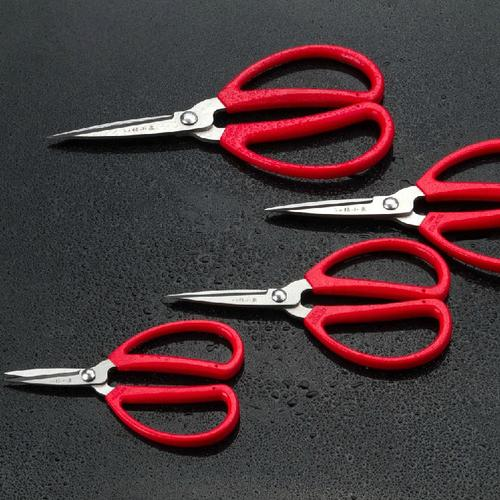scissor: (46, 42, 396, 186), (164, 238, 453, 370), (5, 318, 246, 458)
